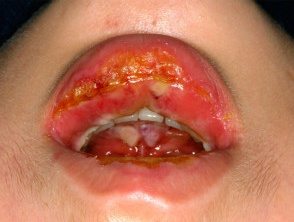SJS-TEN: (46, 29, 245, 136), (40, 129, 214, 178)
